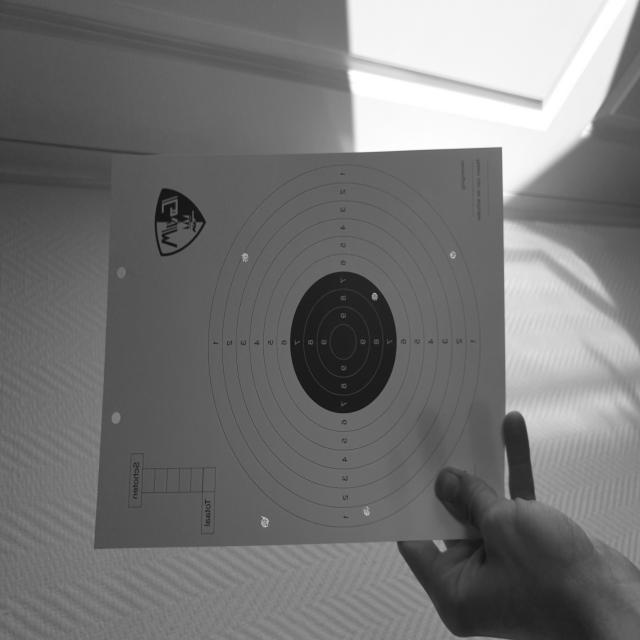0: (260, 516, 269, 529)
1: (362, 506, 371, 517), (448, 250, 456, 260)
2: (240, 251, 248, 263)
7: (370, 291, 380, 303)
Target: (208, 162, 481, 529)
black_contour: (291, 271, 397, 412)
